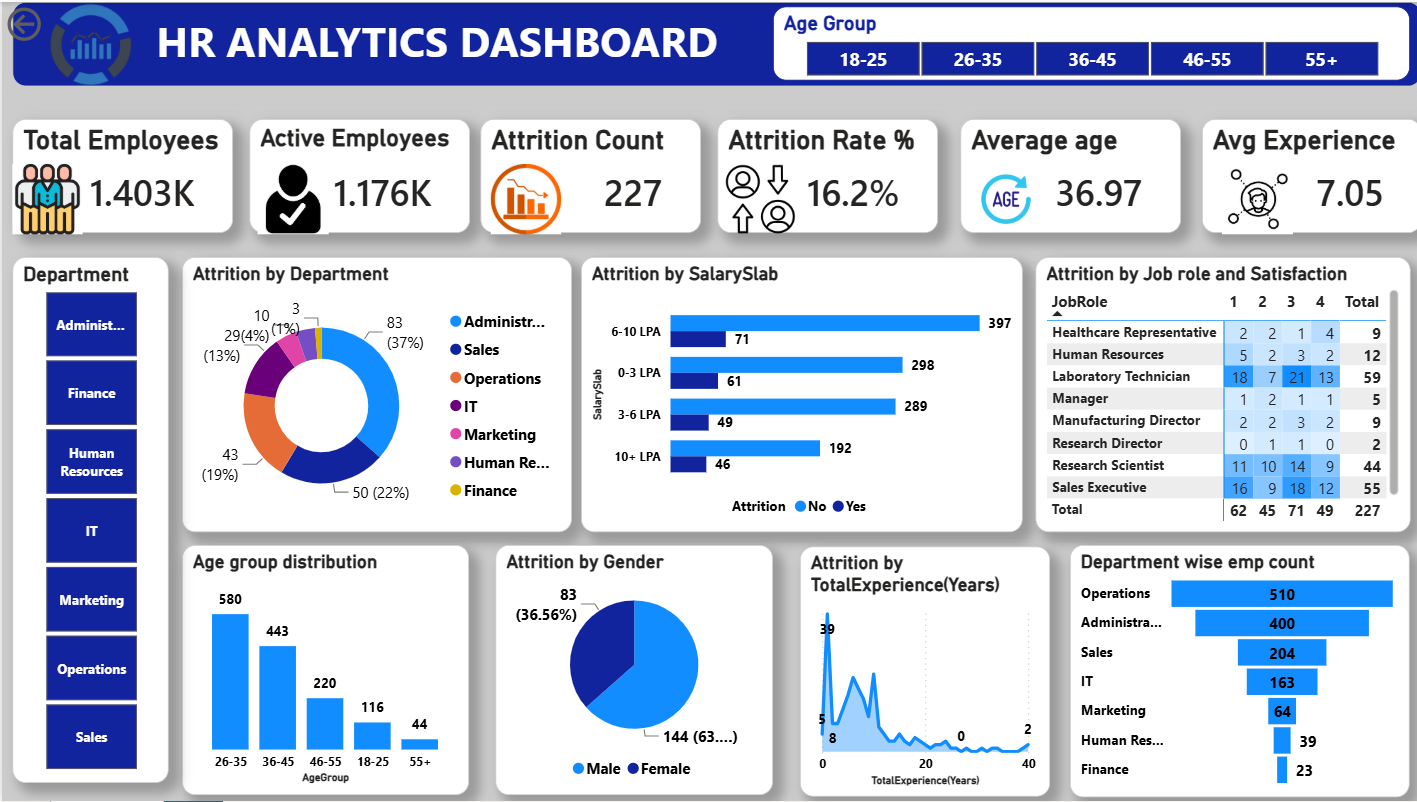

This screenshot's page, from the dashboard's own definition file:
{"tool":"powerbi","page":{"name":"Page 1","canvas":[1280,720],"ordinal":0},"visuals":[{"type":"textbox","box":[9.1,0,1270.4,75.7],"z":0},{"type":"image","box":[25.7,1.5,109,74.2],"z":1},{"type":"cardVisual","title":"Total Employees","fields":{"Data":["CountNonNull(HR_Analytics-4.EmpID)"]},"box":[9.1,106,198.4,103],"z":2},{"type":"cardVisual","title":"Active Employees","fields":{"Data":["CountNonNull(HR_Analytics-4.EmployeeCount)"]},"box":[222.6,106,198.4,103],"z":4},{"type":"cardVisual","title":"Attrition Count","fields":{"Data":["Sum(HR_Analytics-4.AttritionCount)"]},"box":[431.5,106,198.4,103],"z":5},{"type":"cardVisual","title":"Attrition Rate %","fields":{"Data":["HR_Analytics-4.AttritionRate"]},"box":[645.1,106,198.4,103],"z":6},{"type":"cardVisual","title":"Average age","fields":{"Data":["Avg(HR_Analytics-4.Age)"]},"box":[863.1,106,198.4,103],"z":7},{"type":"cardVisual","title":"Avg Experience","fields":{"Data":["Avg(HR_Analytics-4.YearsatCompany)"]},"box":[1081.1,106,198.4,103],"z":8},{"type":"image","box":[0,145.4,81.8,63.6],"z":9},{"type":"image","box":[222.6,145.4,78.7,63.6],"z":10},{"type":"image","box":[431.5,145.4,81.8,63.6],"z":11},{"type":"image","box":[645.1,145.4,77.2,63.6],"z":12},{"type":"image","box":[863.1,145.4,81.8,63.6],"z":13},{"type":"image","box":[1081.1,145.4,99.9,63.6],"z":14},{"type":"donutChart","title":"Attrition by Department","fields":{"Category":["HR_Analytics-4.Department"],"Y":["Sum(HR_Analytics-4.AttritionCount)"]},"box":[162,230.2,351.3,248.3],"z":15},{"type":"clusteredBarChart","title":"Attrition by SalarySlab","fields":{"Category":["HR_Analytics-4.SalarySlab"],"Y":["CountNonNull(HR_Analytics-4.EmpID)"],"Series":["HR_Analytics-4.Attrition"]},"box":[522.4,230.2,398.2,248.3],"z":16},{"type":"pivotTable","title":"Attrition by Job role and Satisfaction","fields":{"Rows":["HR_Analytics-4.JobRole"],"Columns":["HR_Analytics-4.JobSatisfaction"],"Values":["Sum(HR_Analytics-4.AttritionCount)"]},"box":[931.2,230.2,337.7,248.3],"z":17},{"type":"actionButton","box":[0,0,100,40],"z":18},{"type":"columnChart","title":"Age group distribution","fields":{"Category":["HR_Analytics-4.AgeGroup"],"Y":["Sum(HR_Analytics-4.EmployeeCount)"]},"box":[162,489.1,258.9,225],"z":19},{"type":"pieChart","title":"Attrition by Gender","fields":{"Y":["Sum(HR_Analytics-4.AttritionCount)"],"Category":["HR_Analytics-4.Gender"]},"box":[445.2,489.1,249.8,225.6],"z":20},{"type":"areaChart","title":"Attrition by TotalExperience(Years)","fields":{"Y2":["Sum(HR_Analytics-4.AttritionCount)"],"Category":["HR_Analytics-4.TotalExperience(Years)"]},"box":[719.2,490.6,225.6,225.6],"z":21},{"type":"funnel","title":"Department wise emp count","fields":{"Category":["HR_Analytics-4.Department"],"Y":["CountNonNull(HR_Analytics-4.EmpID)"]},"box":[963,489.1,305.9,227.1],"z":22},{"type":"slicer","title":"Department","fields":{"Values":["HR_Analytics-4.Department"]},"box":[9.1,230.2,140.8,473.9],"z":23},{"type":"slicer","title":"Age Group","fields":{"Values":["HR_Analytics-4.AgeGroup"]},"box":[695,4.5,573.9,66.6],"z":24}]}

Visuals, with their boxes in screenshot pixels (x1, y1, x2, y2), scaled from the page's 1280x720 canvas onto the 1417x802 screenshot:
textbox: <region>10, 0, 1416, 84</region>
image: <region>28, 2, 149, 84</region>
"Total Employees" cardVisual: <region>10, 118, 230, 233</region>
"Active Employees" cardVisual: <region>246, 118, 466, 233</region>
"Attrition Count" cardVisual: <region>478, 118, 697, 233</region>
"Attrition Rate %" cardVisual: <region>714, 118, 934, 233</region>
"Average age" cardVisual: <region>955, 118, 1175, 233</region>
"Avg Experience" cardVisual: <region>1197, 118, 1416, 233</region>
image: <region>0, 162, 91, 233</region>
image: <region>246, 162, 334, 233</region>
image: <region>478, 162, 568, 233</region>
image: <region>714, 162, 800, 233</region>
image: <region>955, 162, 1046, 233</region>
image: <region>1197, 162, 1307, 233</region>
"Attrition by Department" donutChart: <region>179, 256, 568, 533</region>
"Attrition by SalarySlab" clusteredBarChart: <region>578, 256, 1019, 533</region>
"Attrition by Job role and Satisfaction" pivotTable: <region>1031, 256, 1405, 533</region>
actionButton: <region>0, 0, 111, 45</region>
"Age group distribution" columnChart: <region>179, 545, 466, 795</region>
"Attrition by Gender" pieChart: <region>493, 545, 769, 796</region>
"Attrition by TotalExperience(Years)" areaChart: <region>796, 546, 1046, 798</region>
"Department wise emp count" funnel: <region>1066, 545, 1405, 798</region>
"Department" slicer: <region>10, 256, 166, 784</region>
"Age Group" slicer: <region>769, 5, 1405, 79</region>
